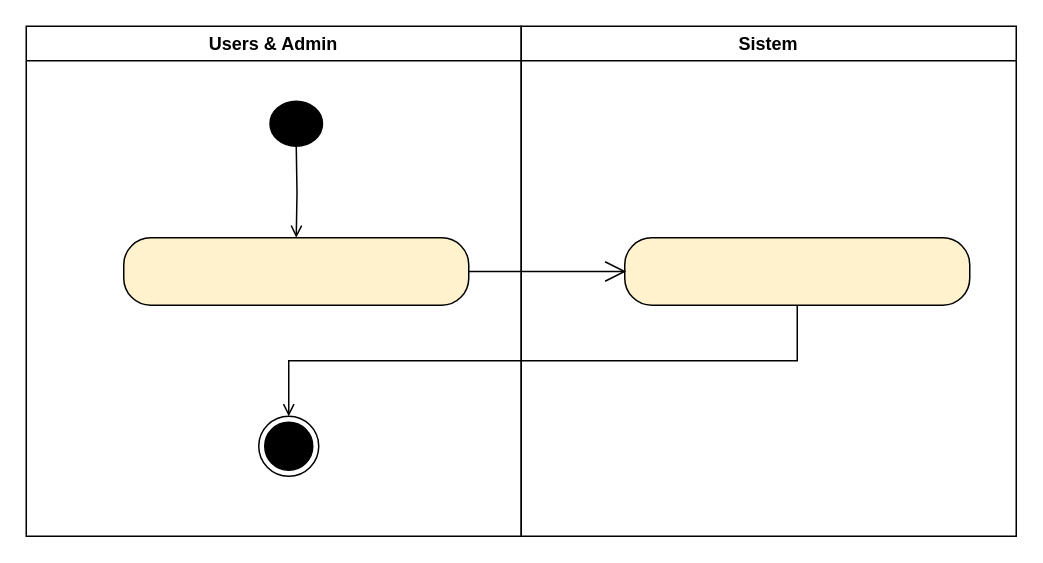
Image size: 1043x563. Some labels were removed from this diagram. Each missing label, with the centre of its shape:
"Memilih menu Log Out" belongs at pixel 295 270.
"Menampilkan halaman Log In" belongs at pixel 796 270.
